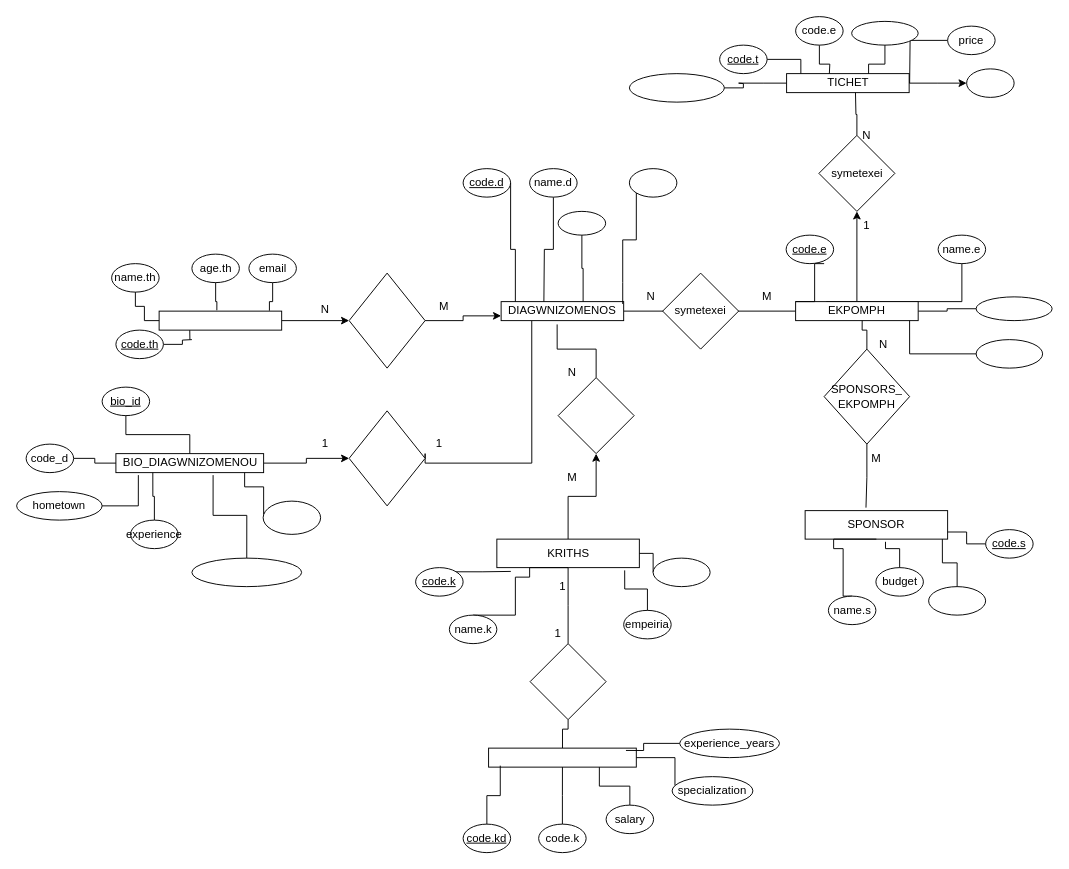
Some shapes in this 1069 by 869 pixel diagram are drawn without their labels. The shapes that lost their labels are listed below. From the top down, each one's centre as x and y in pixels, then its label:
At point (884, 32): "buyer.name".
At point (676, 87): "purchase_date".
At point (990, 82): "seat".
At point (652, 182): "age.d".
At point (581, 222): "talent".
At point (220, 320): "THEATIS".
At point (386, 320): "PSIFOS".
At point (1013, 308): "location".
At point (1009, 353): "hmerominia".
At point (595, 415): "krithei".
At point (386, 458): "ANOIKEI".
At point (291, 517): "birth_date".
At point (246, 572): "educationeducation".
At point (681, 572): "eidikotita".
At point (957, 600): "contact".
At point (567, 681): "ΕΧΕΙ".
At point (562, 757): "KRITHS_DETAILS".
